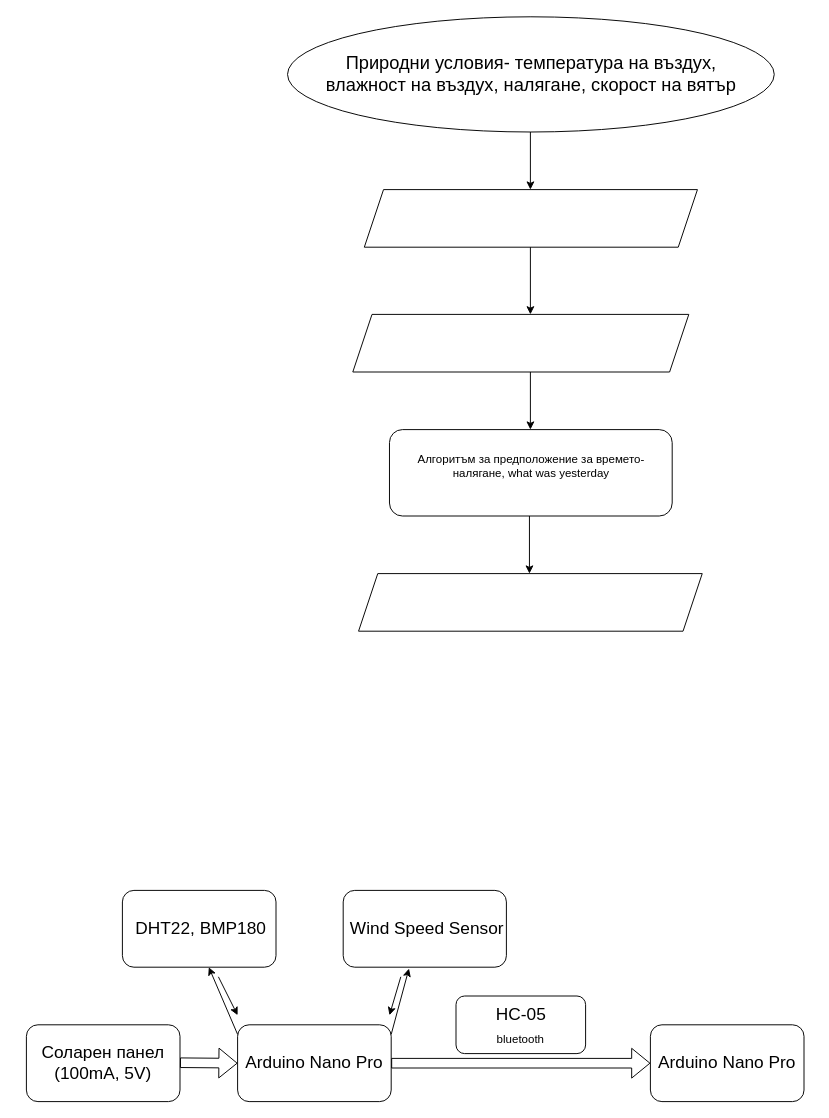
The diagram is 829 pixels wide and 1118 high, and some of its shapes have lost their labels. The shapes that lost their labels are listed below. From the top down, each one's centre as x and y in pixels, then its label:
the point at 530,218: Измерват се чрез сензори DHT22(влажност, темп.), BMP180(налягане),
the point at 520,342: Измерванията се записват на Arduino Nano Pro
the point at 530,602: Data over bluetooth HC-05
